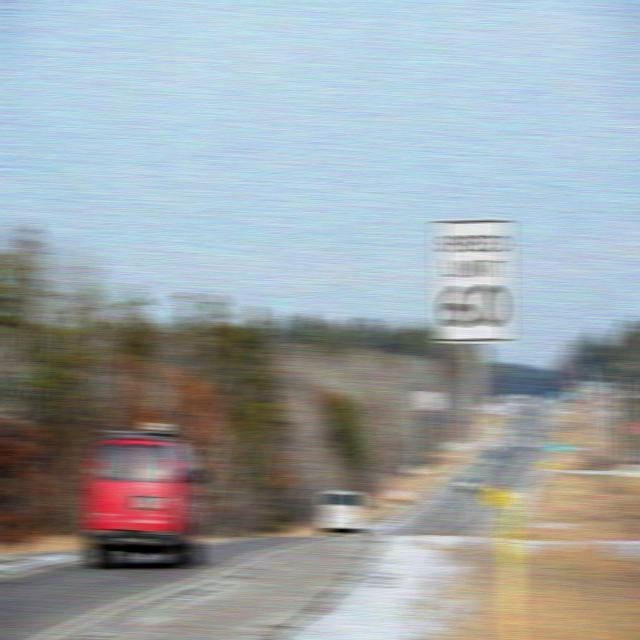speedLimit60: (431, 220, 510, 346)
